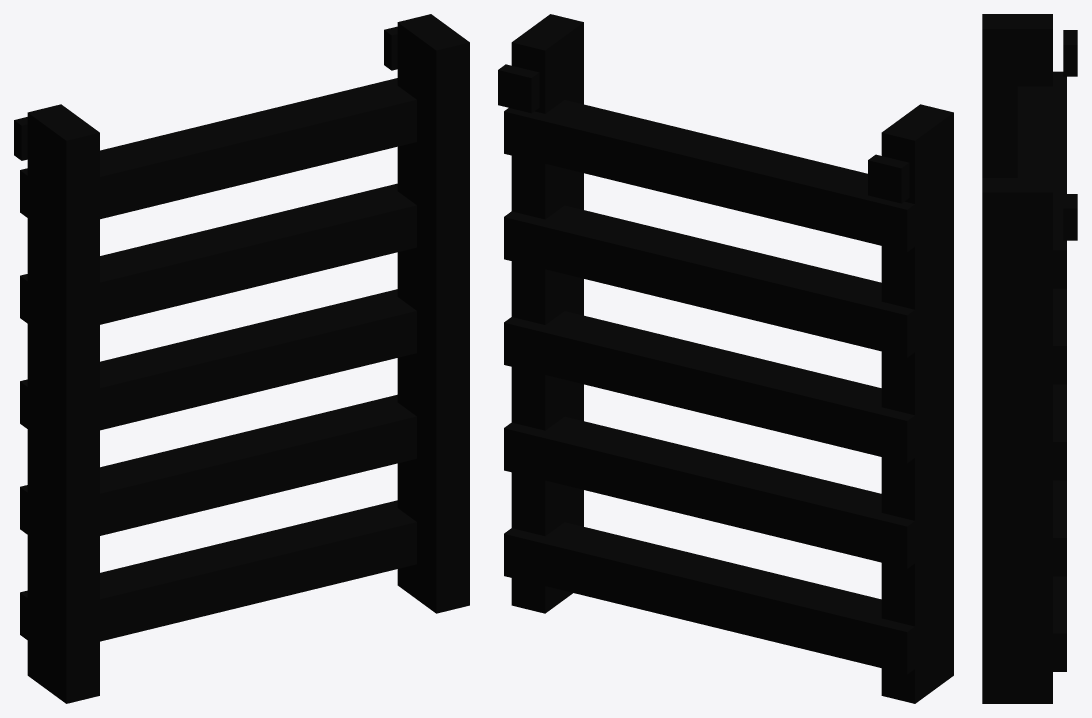
Rendered from lab_access_ladder.obj.
The picture shows the model from 3 angles, left to right: view 1: azimuth 30°, elevation 25°; view 2: azimuth 150°, elevation 25°; view 3: azimuth 270°, elevation 25°; orthographic projection. The views are drawn at different scales.
Bounding box in the file's own units: 0.75 × 1 × 0.1687.
